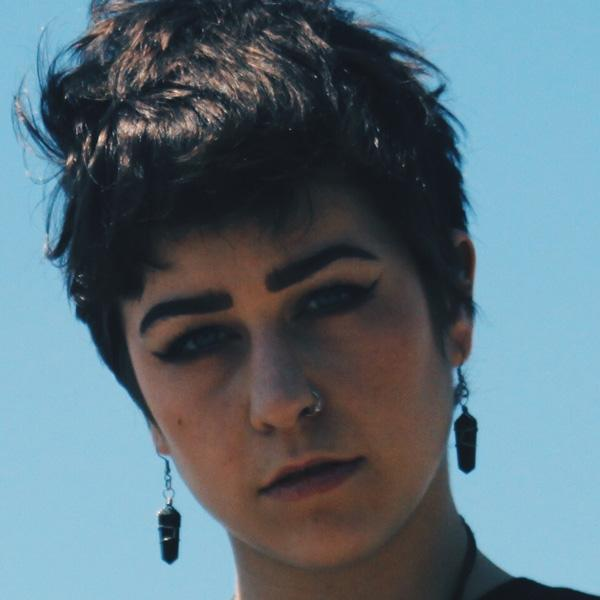Eyes: (158, 313, 248, 372), (289, 272, 378, 325)
